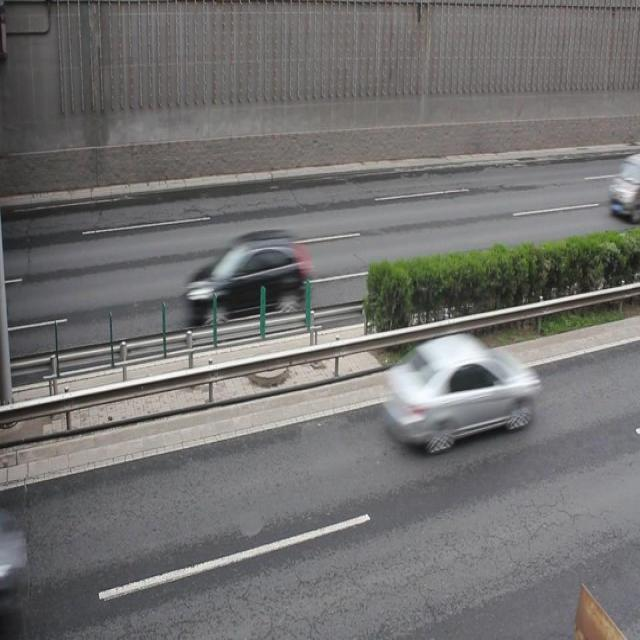car: (377, 332, 536, 450), (181, 228, 312, 327)
